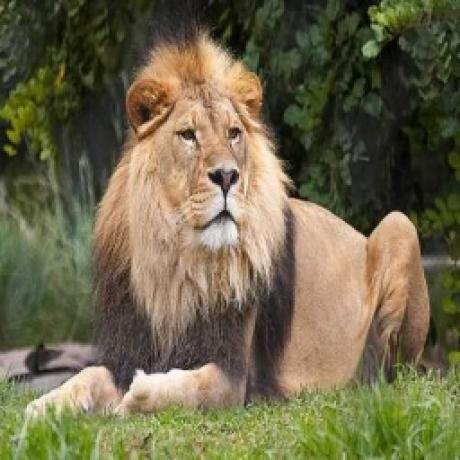Lion: (25, 28, 436, 418)
